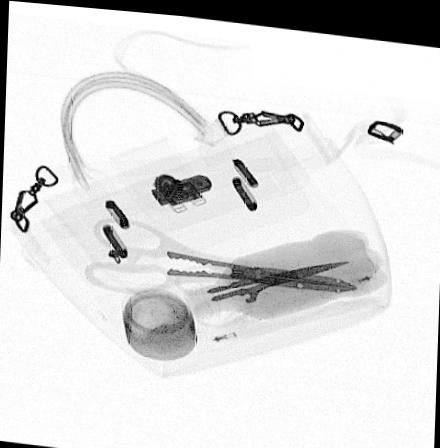Scissors: (76, 208, 363, 294), (171, 249, 355, 326)
